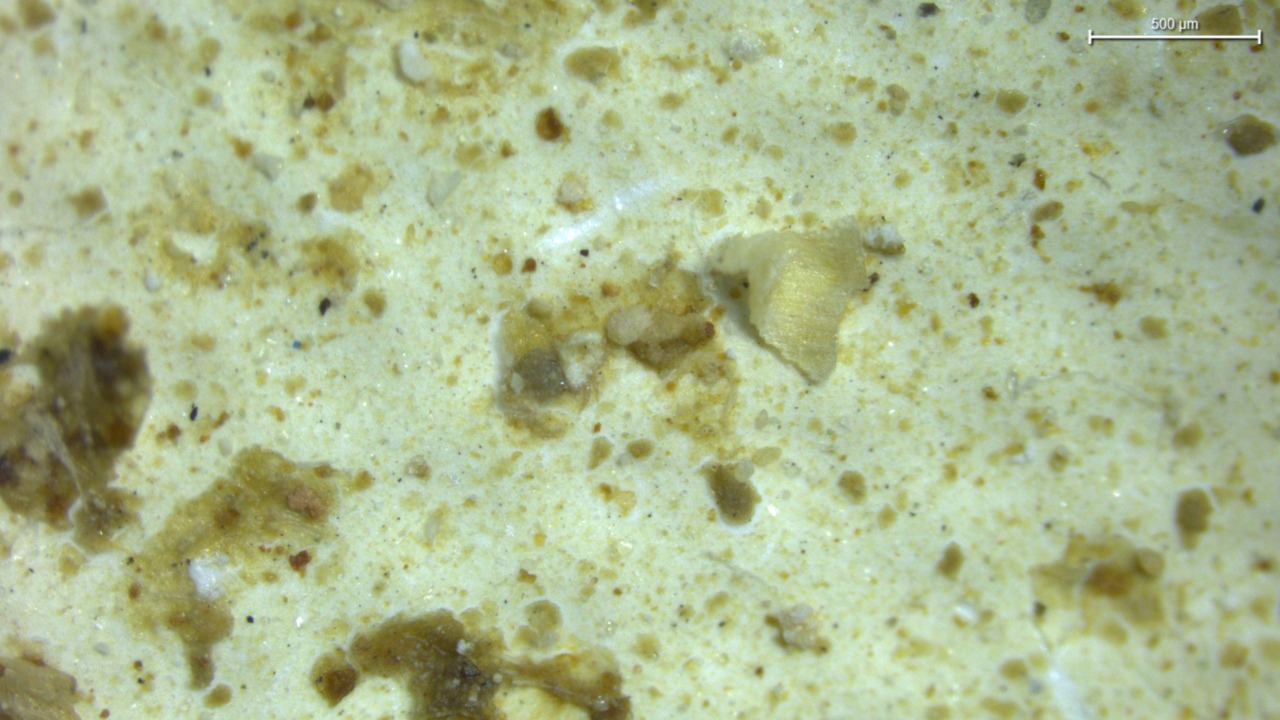microplastic_fragment: (712, 228, 868, 383), (766, 605, 827, 651), (606, 306, 653, 346), (398, 40, 432, 82)
